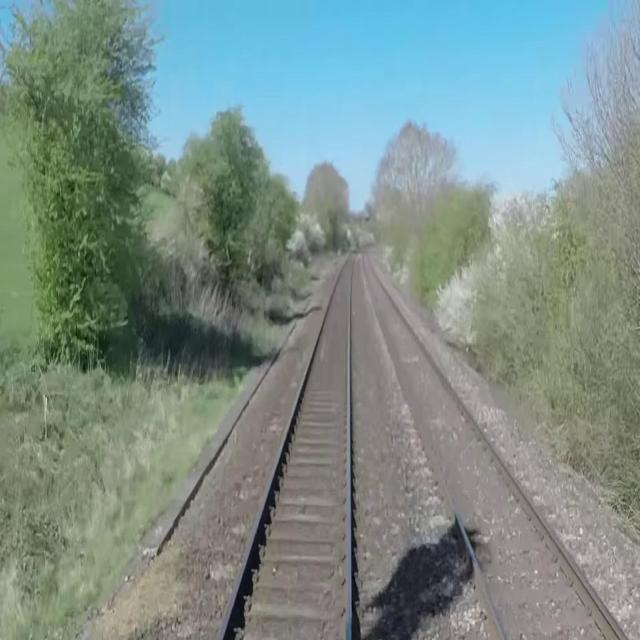rail-track: (363, 249, 621, 639), (221, 249, 354, 639)
